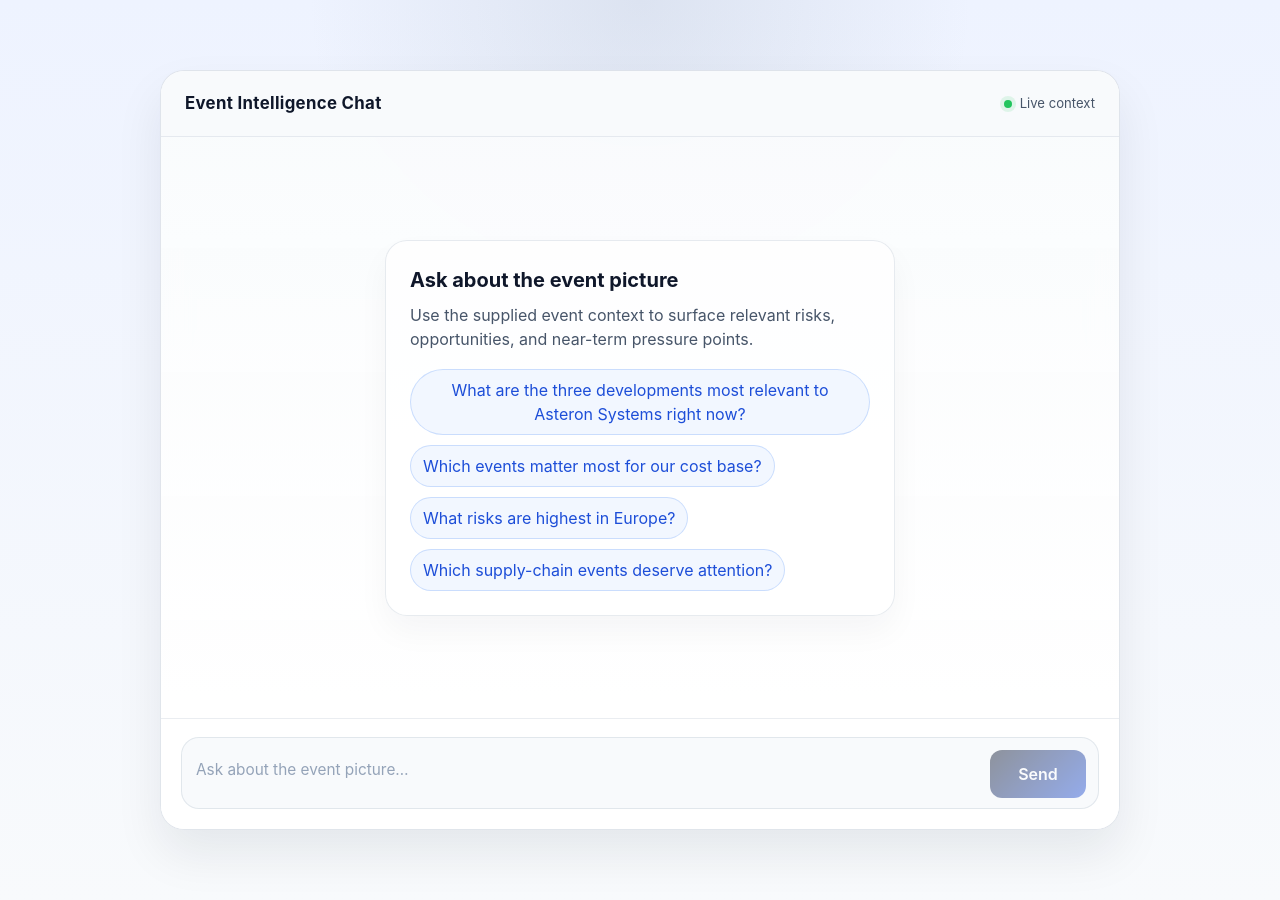
Test case: Event Intelligence Chat UI › handles a failed API response without showing a successful assistant answer
In the text box named "message input": (587,775) [196,752,978,798], type "Will interest rates fall?"
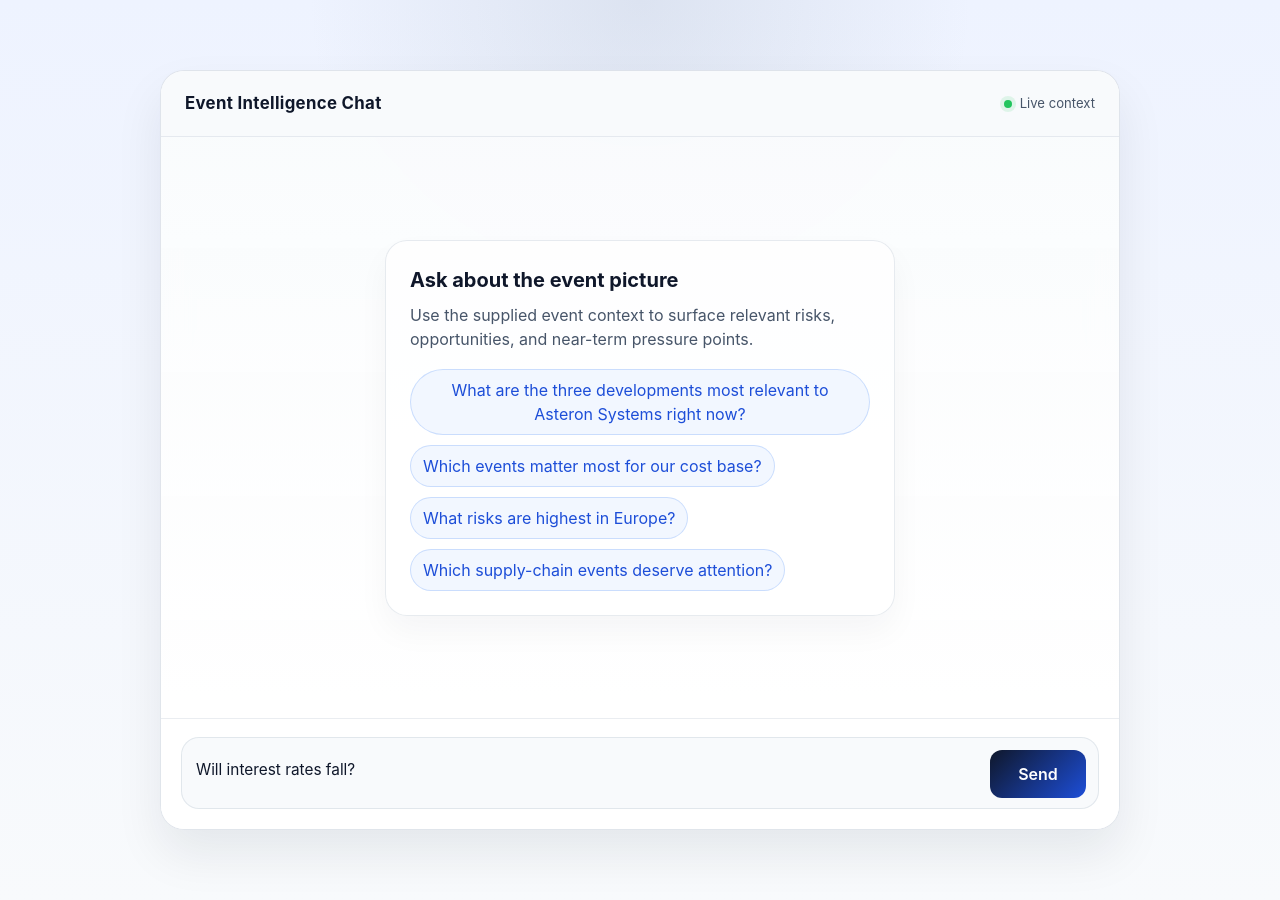
Click the button "Send": (1038,774) [990,750,1086,798]
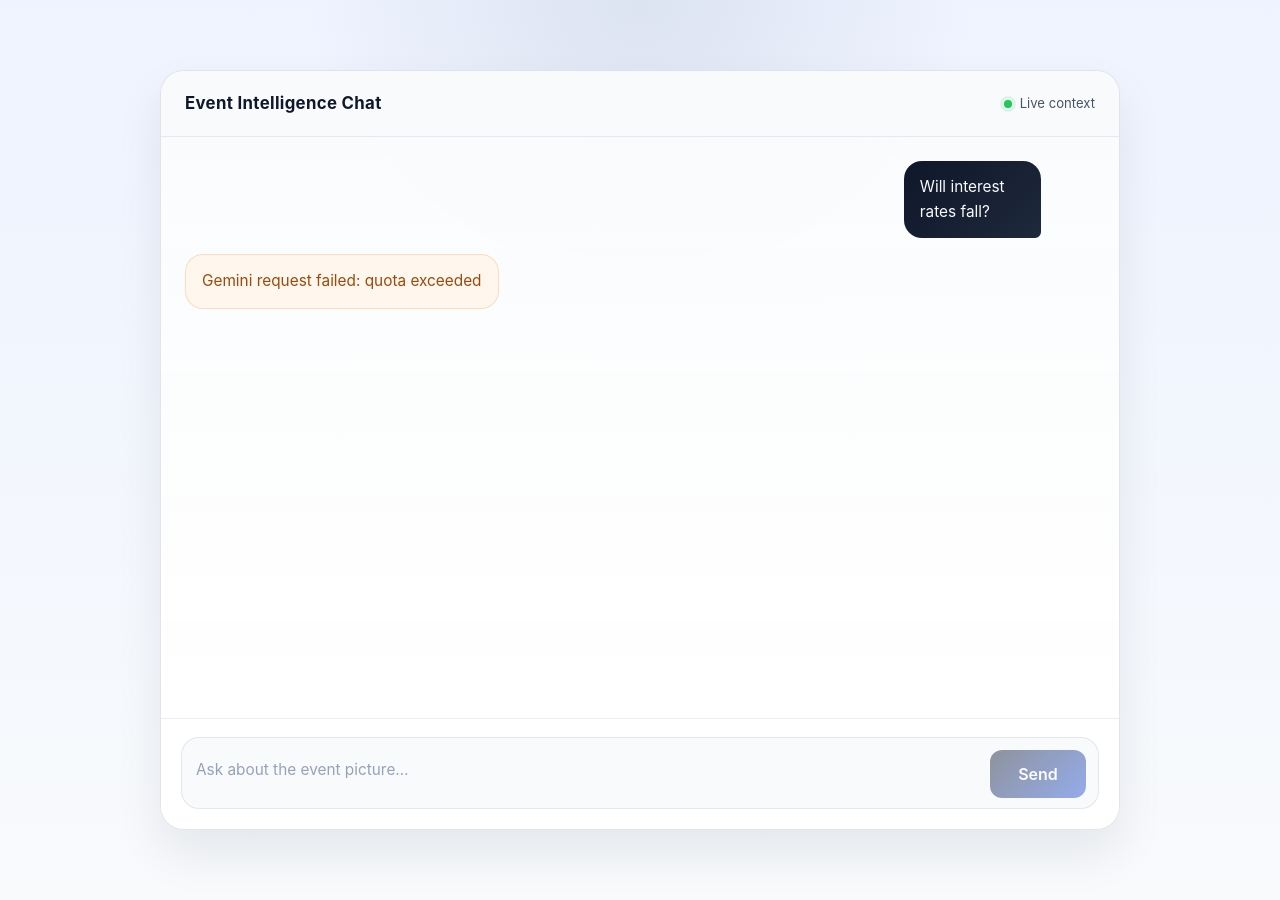
Expected: the text "Gemini request failed: quota exceeded" is shown, [185,254,498,309]
Expected: the text "Will interest rates fall?" is shown, [904,161,1042,238]
